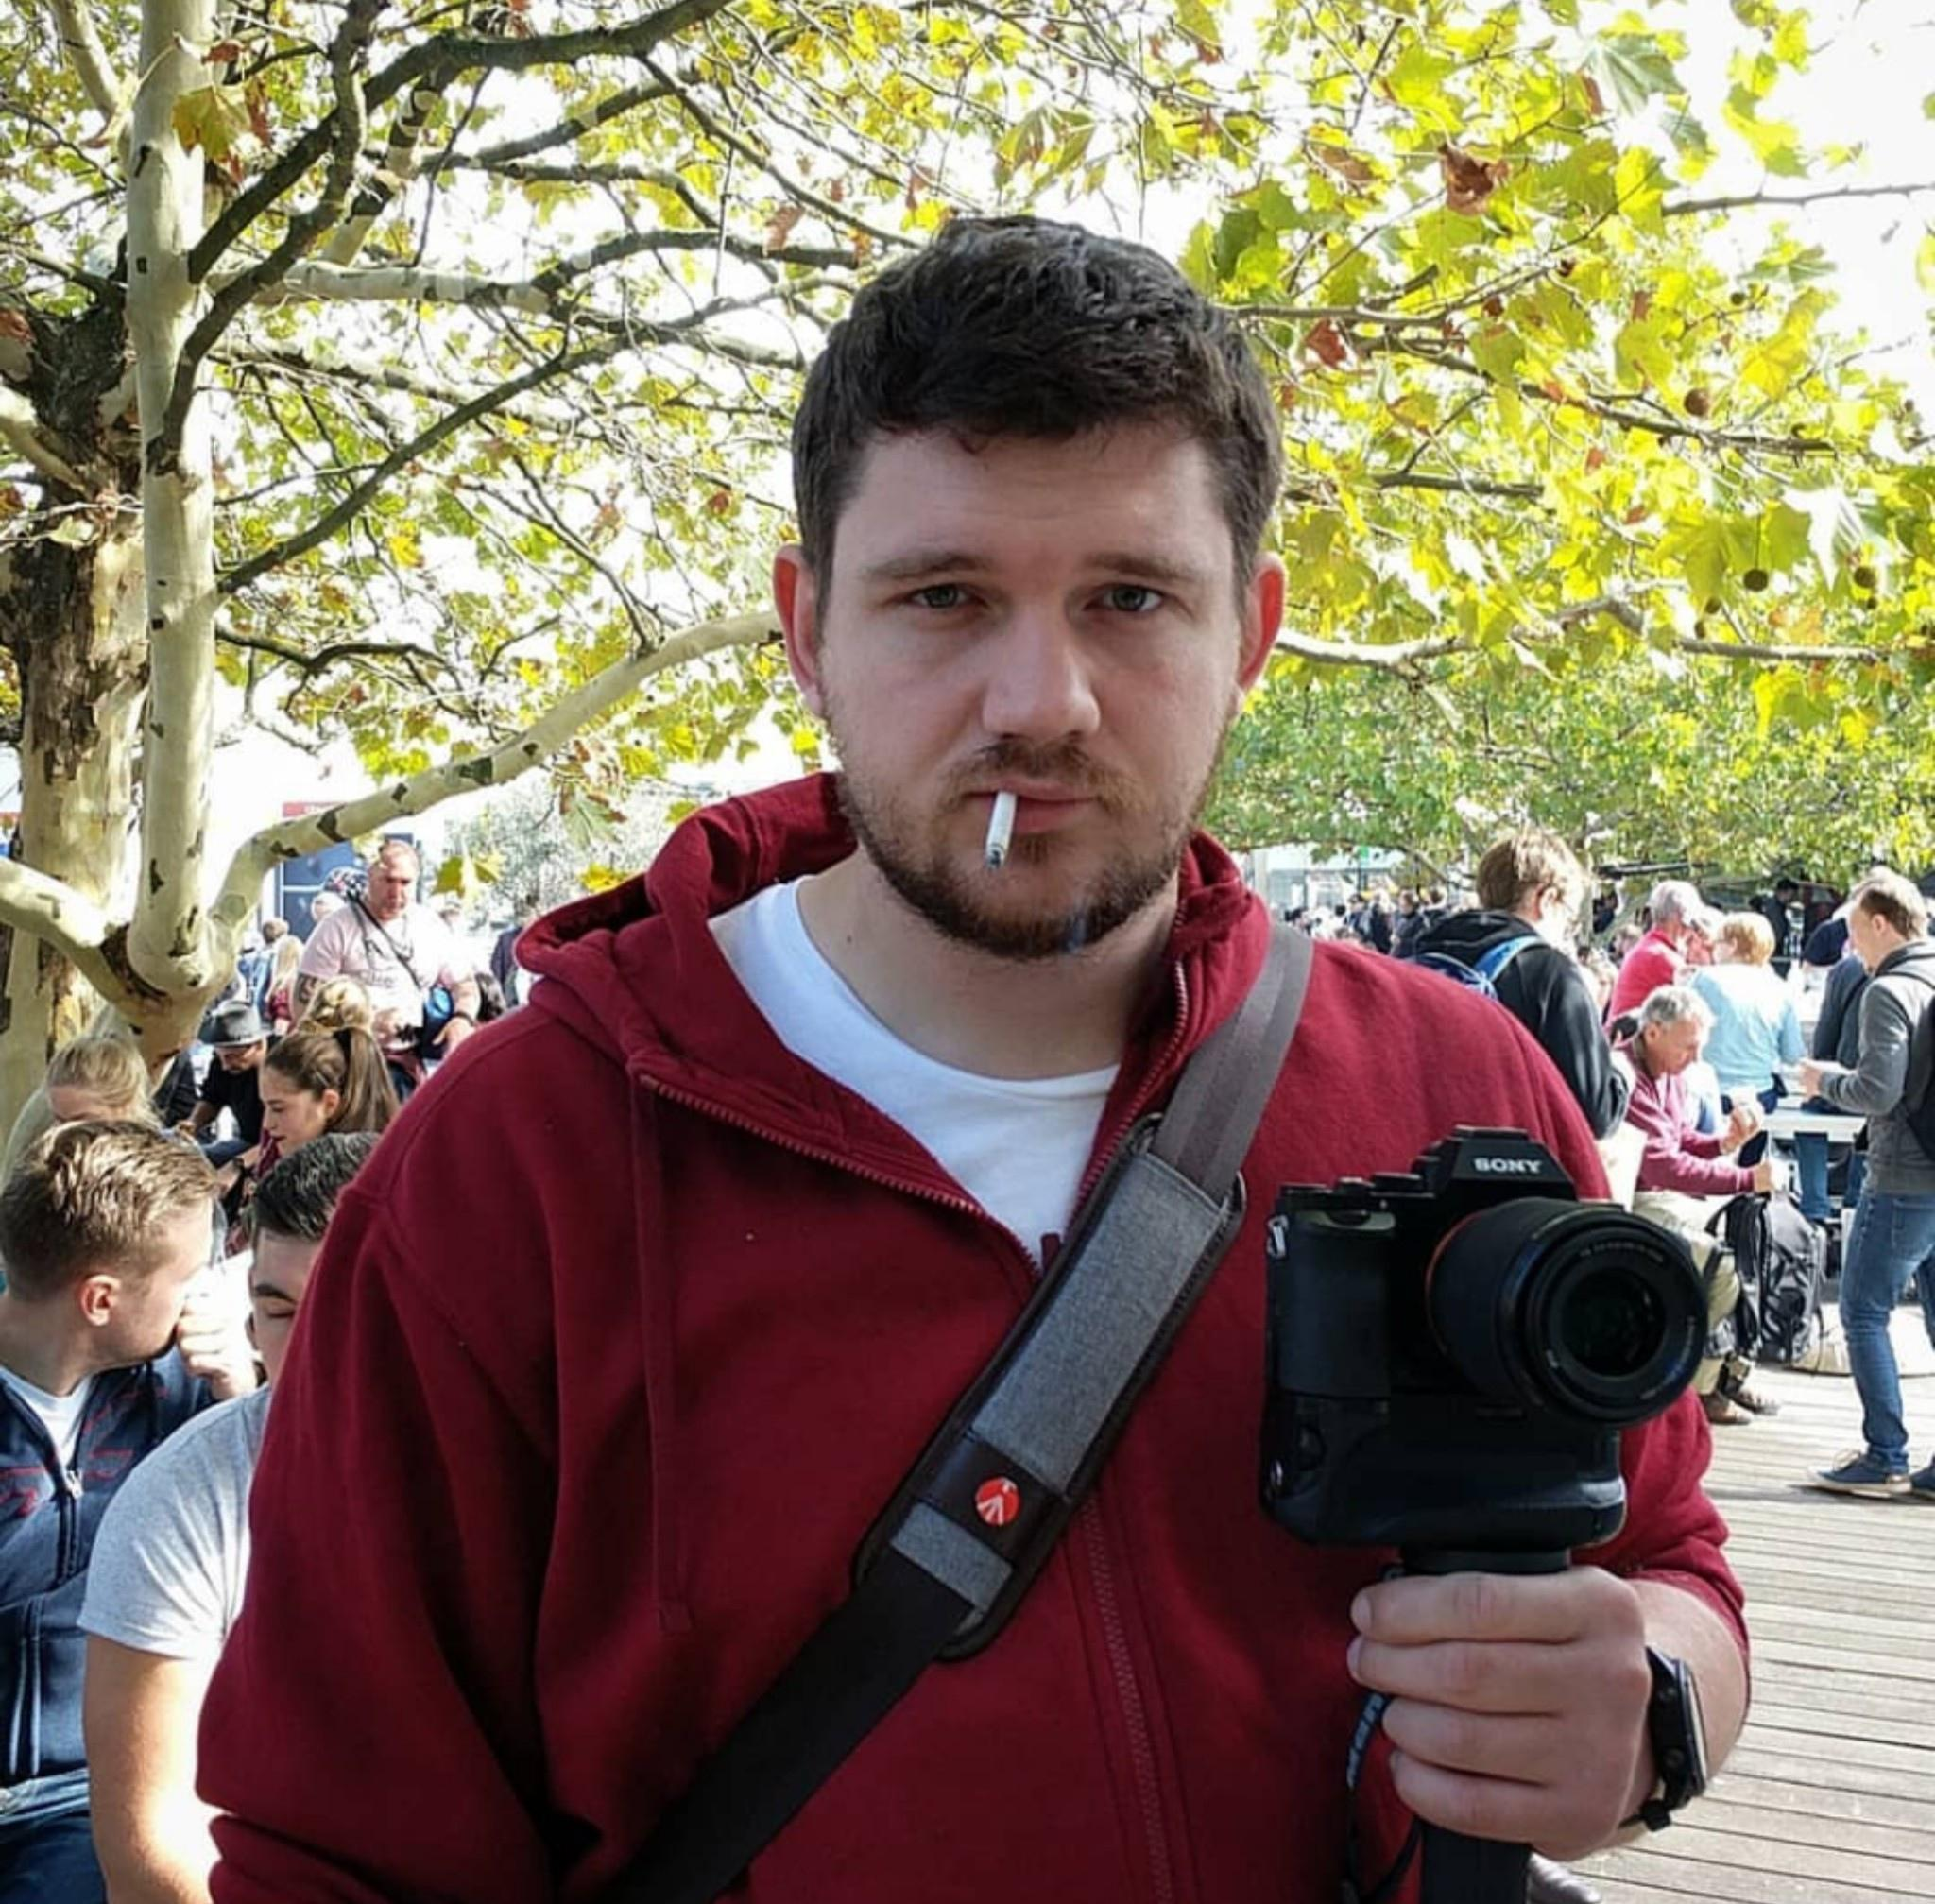cigarette: (985, 792, 1018, 868)
